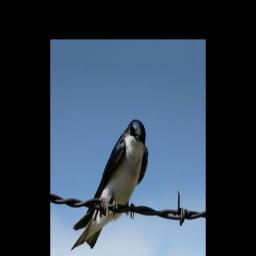Swallow: (72, 119, 149, 250)
